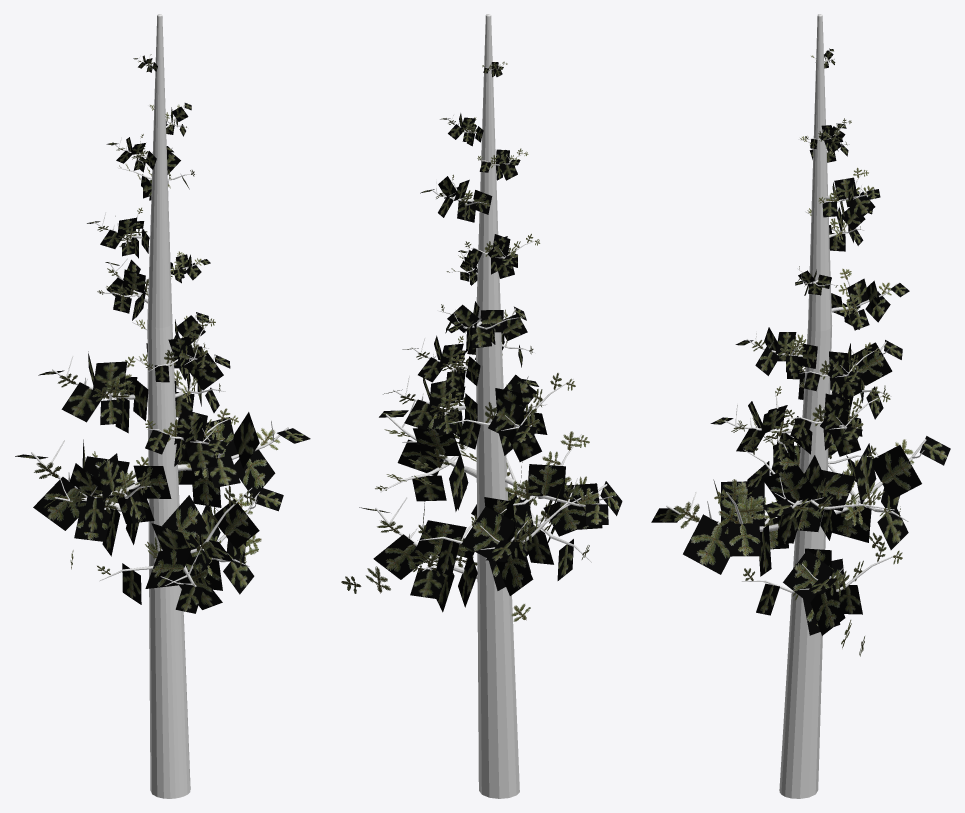
Rendered from Little pine tree low poly.fbx.
3 renders of one model, left to right at view 1: azimuth 30°, elevation 25°; view 2: azimuth 150°, elevation 25°; view 3: azimuth 270°, elevation 25°, orthographic. The views are drawn at different scales.
Parts seen in each view (by area): view 1: pCylinder8, polySurface1875, polySurface1748, polySurface1781, polySurface1838, polySurface1762, polySurface1984, polySurface1696, polySurface1822, polySurface1823, polySurface1972, polySurface1831 (+14 smaller); view 2: pCylinder8, polySurface1846, polySurface1797, polySurface1700, polySurface1693, polySurface1874, polySurface1836, polySurface1796, polySurface1791, polySurface1843, polySurface1954, polySurface1820 (+8 smaller); view 3: pCylinder8, polySurface1770, polySurface1852, polySurface1784, polySurface1821, polySurface1767, polySurface1758, polySurface1806, polySurface1959, polySurface1829, polySurface1859, polySurface1863 (+4 smaller).
Boxes of the visible parts, x1,y1,x2,y2 form: pCylinder8: (147, 14, 190, 798); polySurface1875: (33, 477, 86, 530); polySurface1748: (145, 547, 191, 588); polySurface1781: (213, 499, 259, 549); polySurface1838: (234, 449, 275, 498); polySurface1762: (162, 495, 206, 539); polySurface1984: (62, 382, 103, 422); polySurface1696: (133, 465, 171, 498); polySurface1822: (234, 412, 259, 468); polySurface1823: (192, 469, 221, 507); polySurface1972: (92, 361, 127, 393); polySurface1831: (207, 455, 240, 487); pCylinder8: (476, 14, 519, 798); polySurface1846: (461, 506, 517, 561); polySurface1797: (373, 534, 429, 579); polySurface1700: (528, 464, 565, 497); polySurface1693: (543, 495, 588, 536); polySurface1874: (495, 538, 533, 595); polySurface1836: (413, 428, 459, 455); polySurface1796: (415, 520, 466, 555); polySurface1791: (410, 568, 444, 599); polySurface1843: (397, 439, 443, 475); polySurface1954: (488, 399, 524, 437); polySurface1820: (412, 475, 446, 501); pCylinder8: (779, 14, 832, 798); polySurface1770: (683, 514, 729, 574); polySurface1852: (872, 445, 921, 499); polySurface1784: (783, 550, 833, 603); polySurface1821: (762, 465, 817, 504); polySurface1767: (721, 481, 764, 526); polySurface1758: (728, 523, 761, 556); polySurface1806: (810, 584, 845, 635); polySurface1959: (851, 342, 892, 385); polySurface1829: (814, 470, 855, 511); polySurface1859: (832, 501, 871, 542); polySurface1863: (877, 504, 908, 549).
Size of the model in its own units: 7.54 by 22.5 by 7.87.
